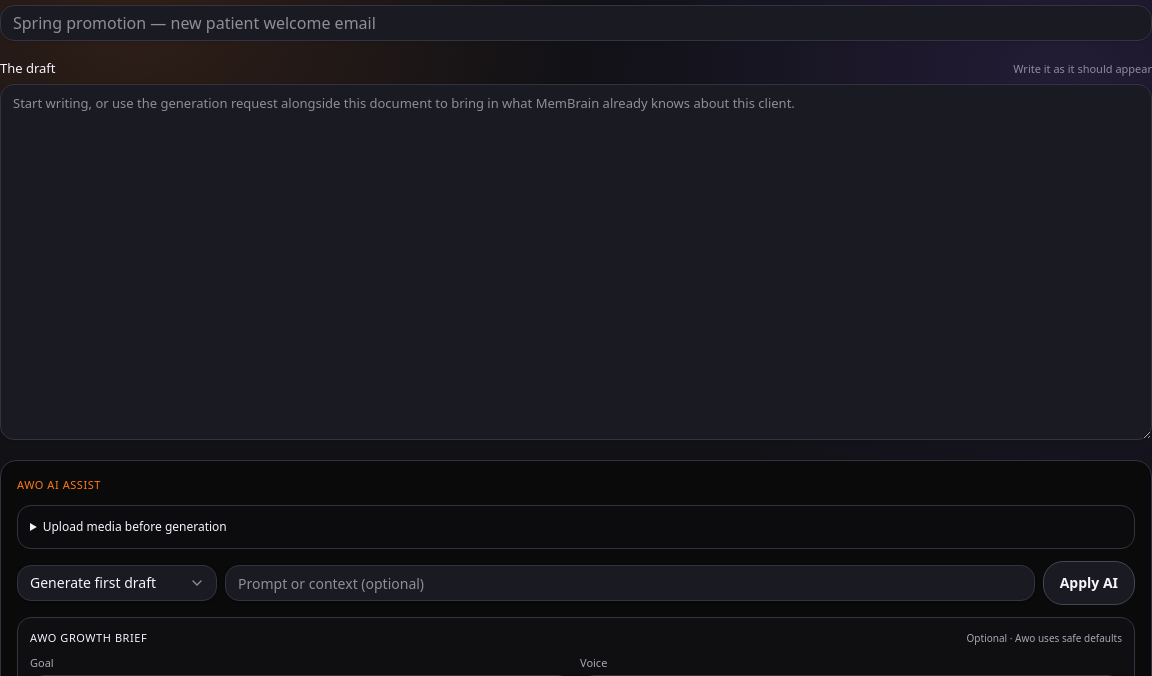
Scenario: AWO AI Assist — 12 component interaction tests › 9 — After Accept, state machine transitions: rewrite selected, generate disabled
Expected: the dropdown named "ai action selection" shows "Generate first draft", [17, 565, 217, 601]
Click the button "Apply AI" at (1089,583), box [1043, 561, 1135, 605]
(page scrolled)
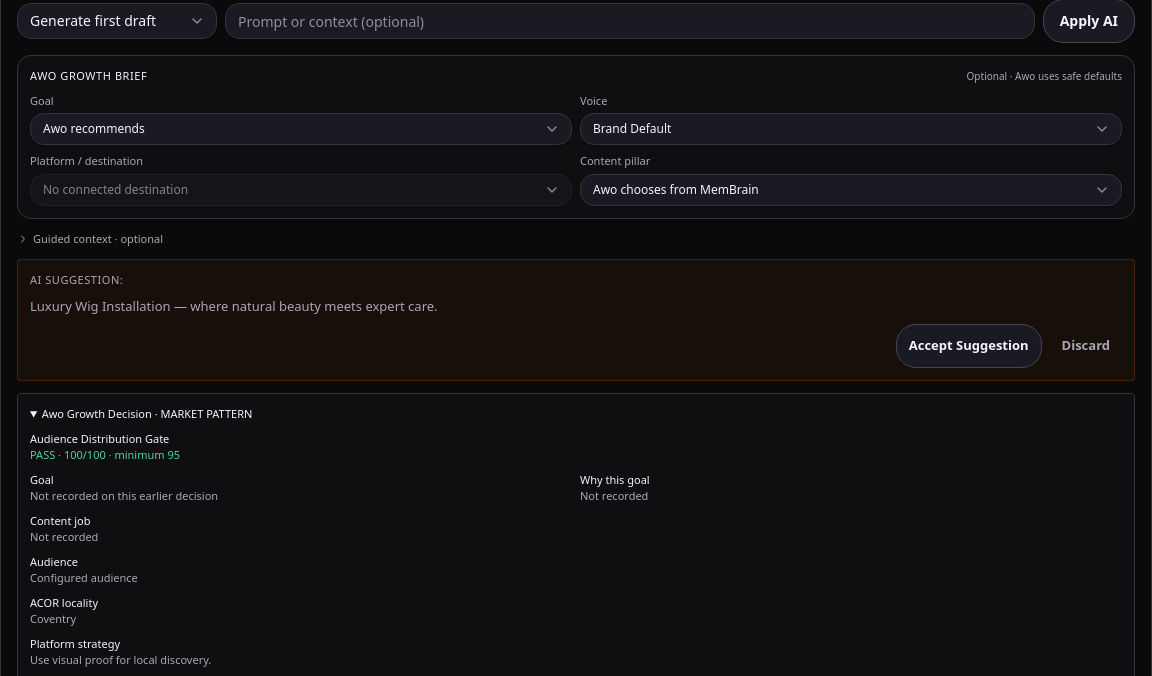
Click the button "Accept Suggestion" at (969,346), box [896, 324, 1042, 368]
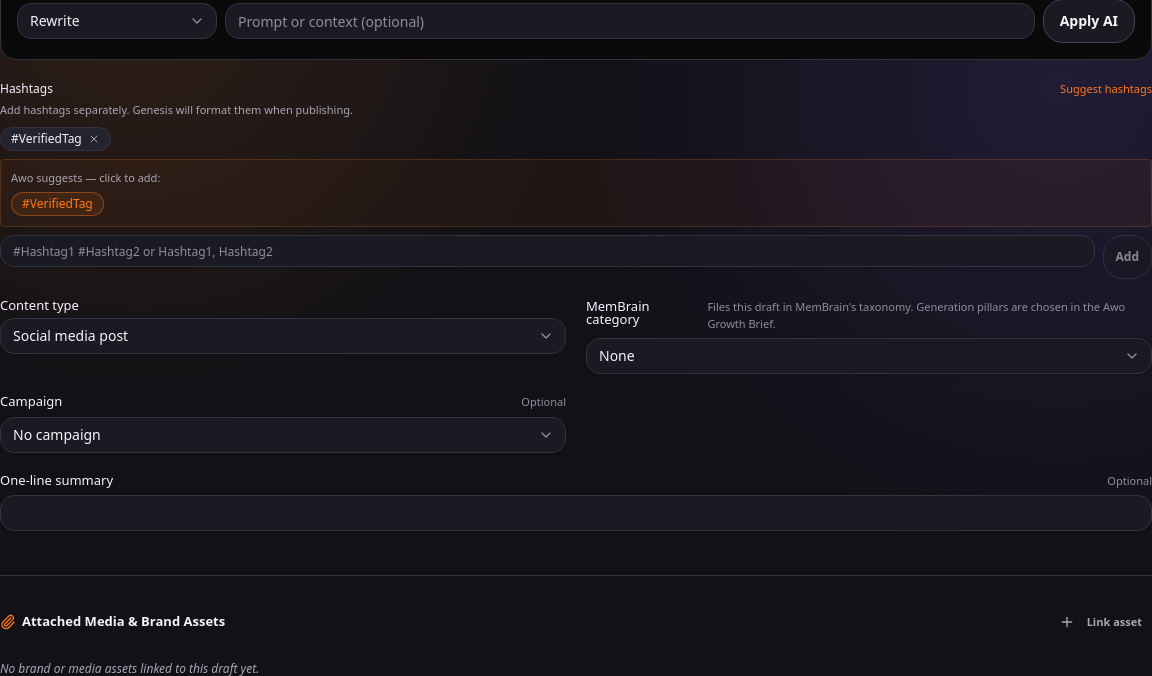
Expected: the dropdown named "ai action selection" shows "Rewrite", [17, 3, 217, 39]
